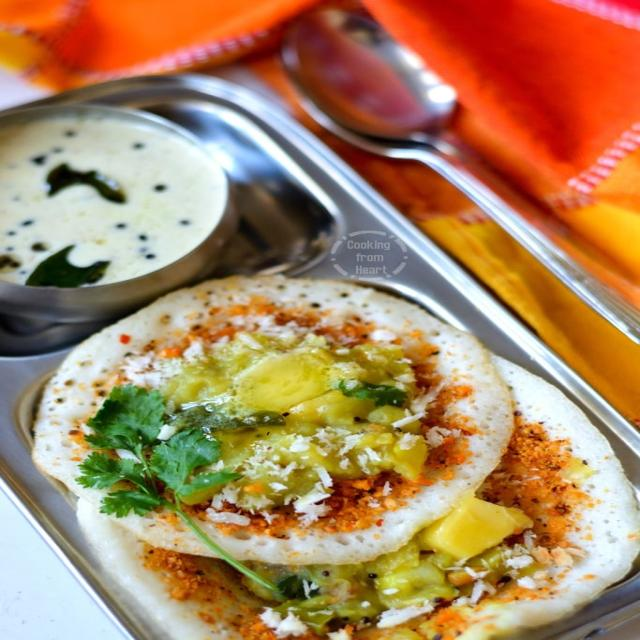Wet Waste: (104, 356, 639, 640), (44, 278, 532, 537), (0, 108, 238, 296)
